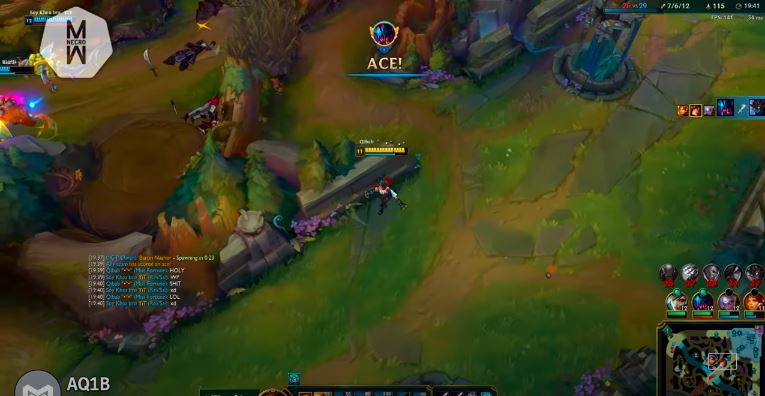bar: (21, 13, 92, 27), (353, 143, 409, 156), (1, 60, 38, 77)
